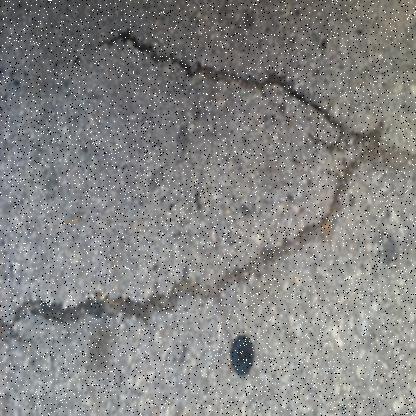Cracks: (0, 125, 385, 336), (107, 23, 416, 186)
